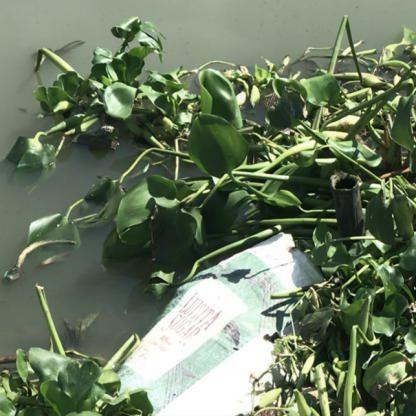Trash: (124, 225, 333, 411)
